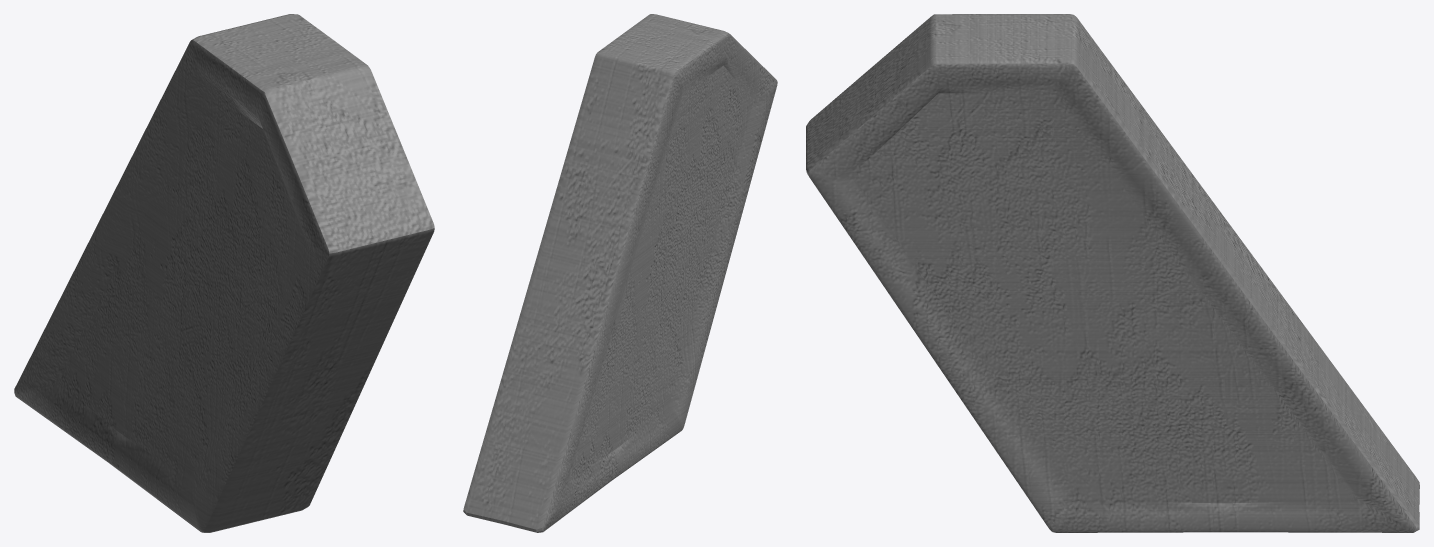
Rendered from AboveBase01.fbx.
The picture shows the model from 3 angles, left to right: view 1: azimuth 30°, elevation 25°; view 2: azimuth 150°, elevation 25°; view 3: azimuth 270°, elevation 25°; orthographic projection. The views are drawn at different scales.
Visible parts, largest first — view 1: aboveBase01; view 2: aboveBase01; view 3: aboveBase01.
Part boxes in pixels (x1,y1,x2,y2): aboveBase01: (14,14,434,532); aboveBase01: (463,14,777,532); aboveBase01: (806,14,1419,532).
Size of the model in its own units: 5.94 by 25.58 by 30.13.
